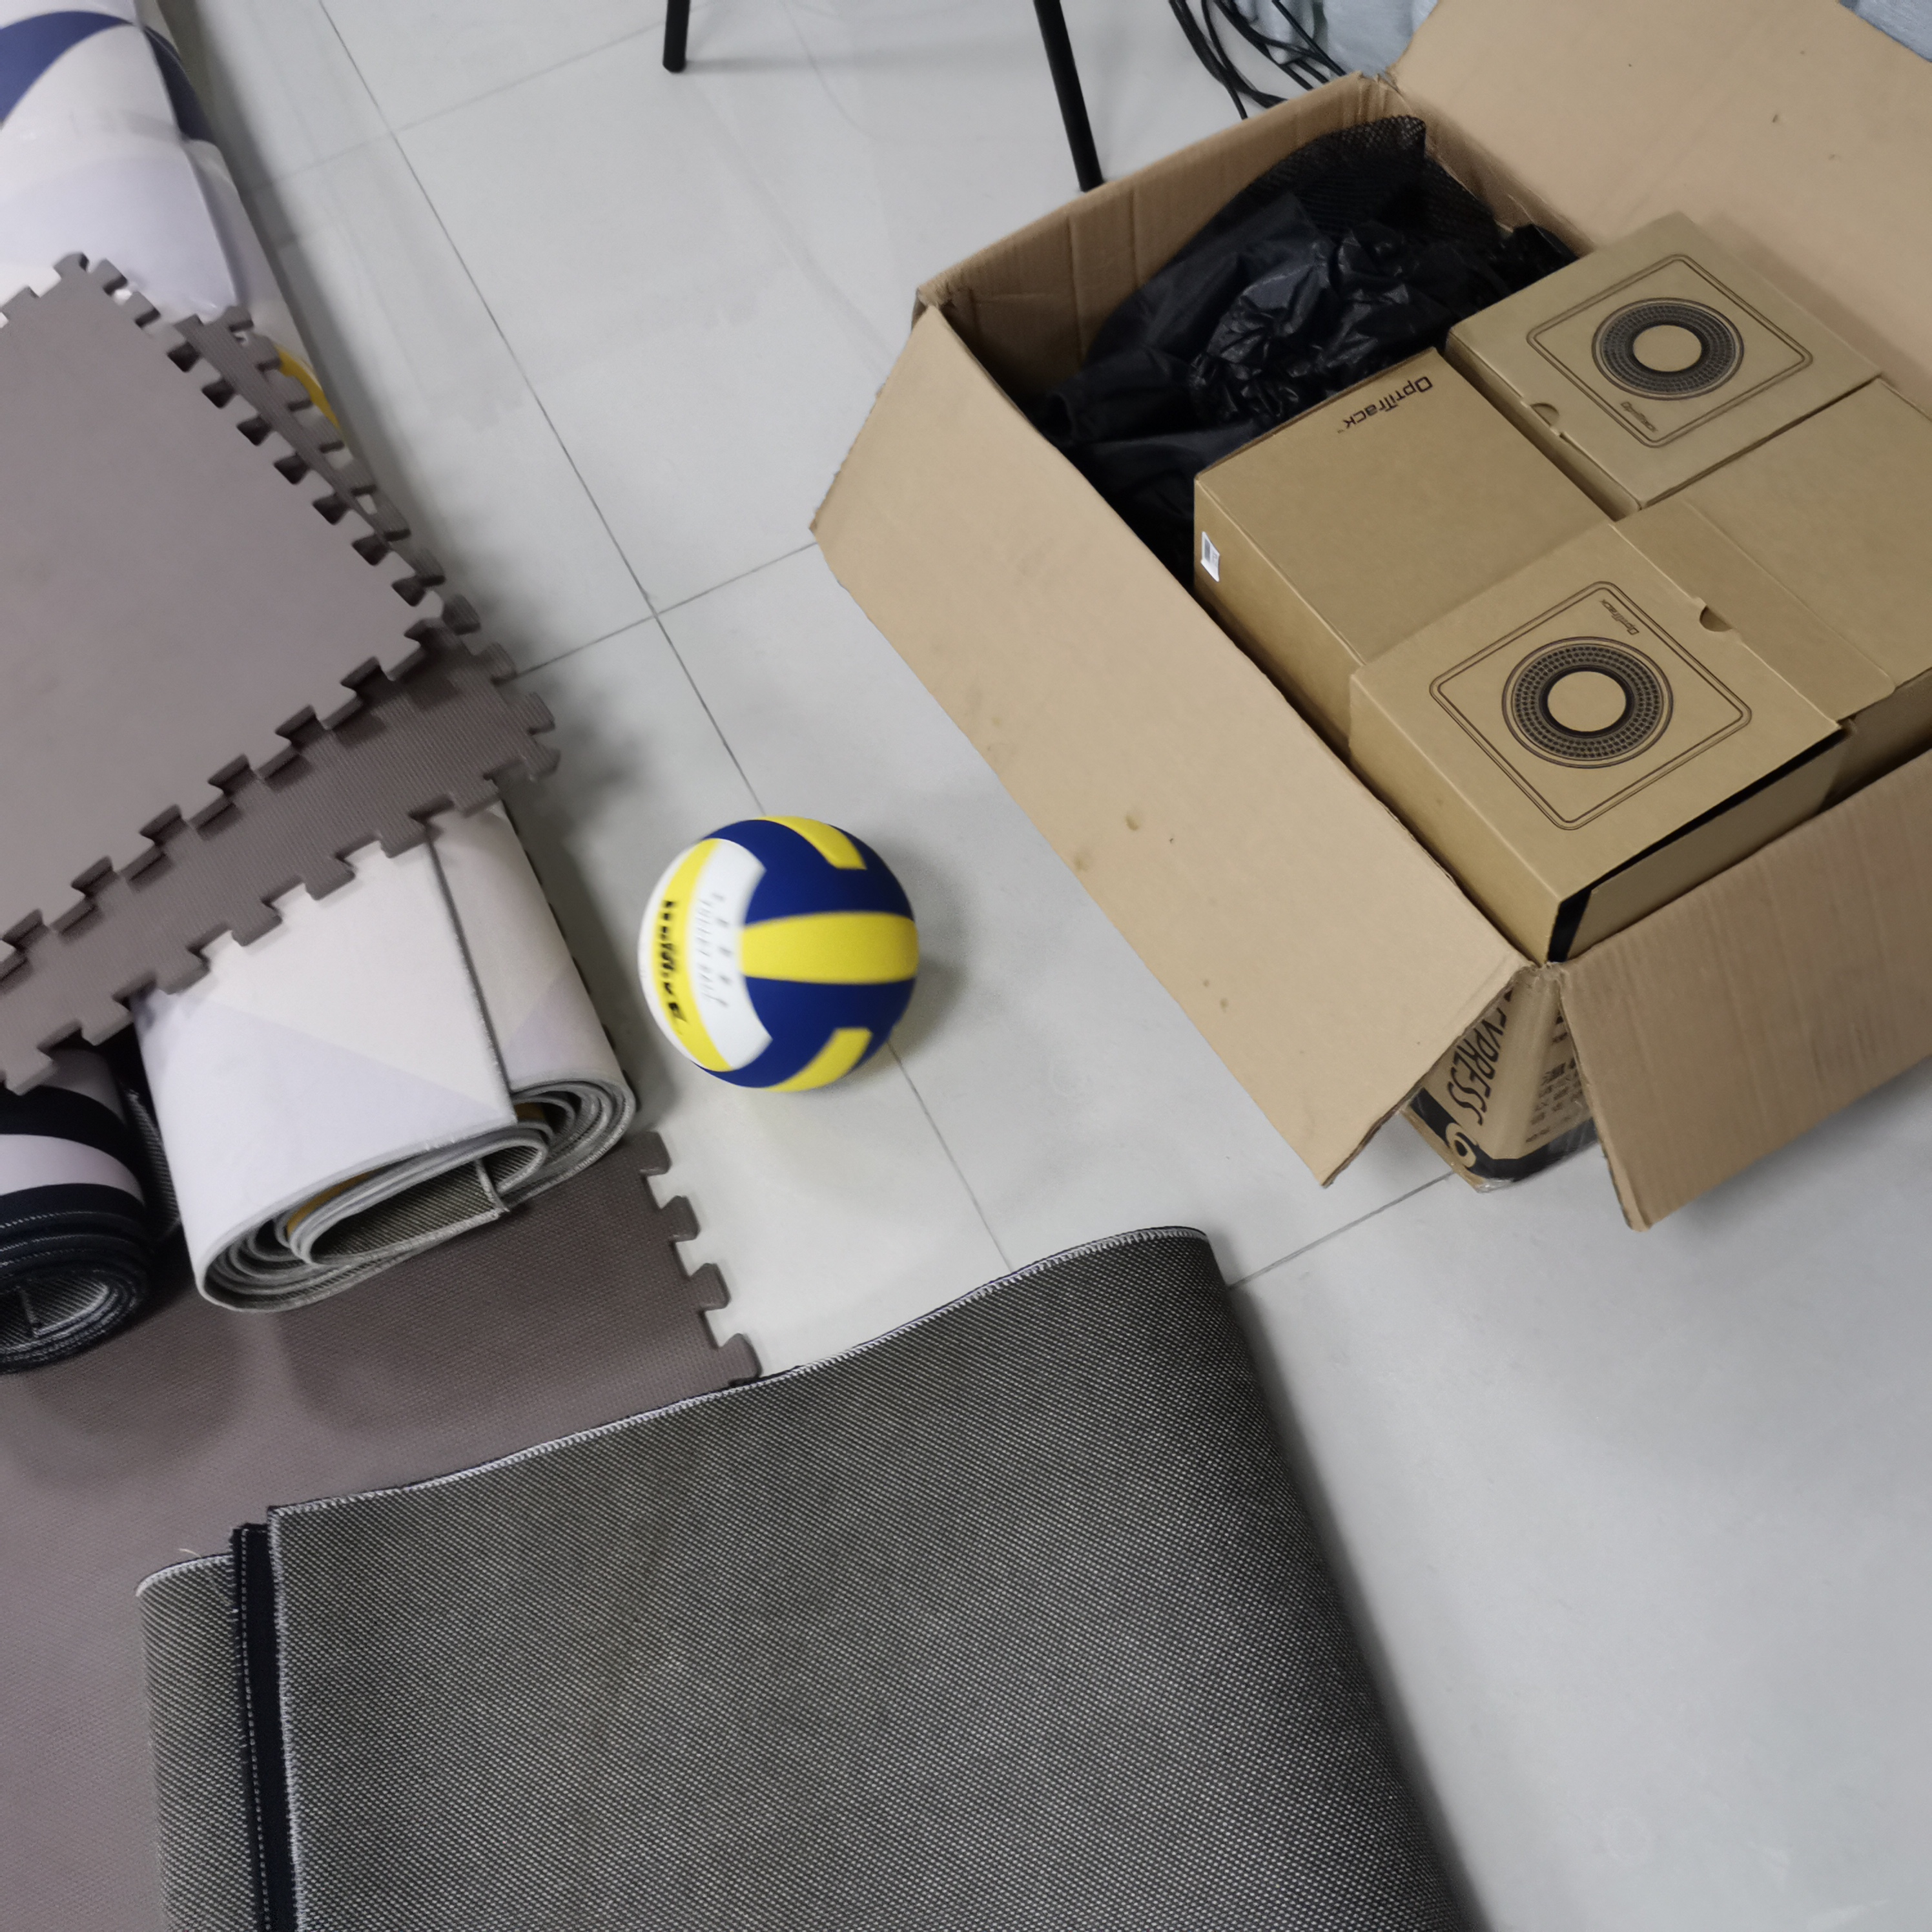volleyball: (635, 817, 929, 1095)
